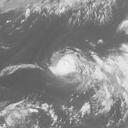cyclone: (52, 48, 92, 80)
